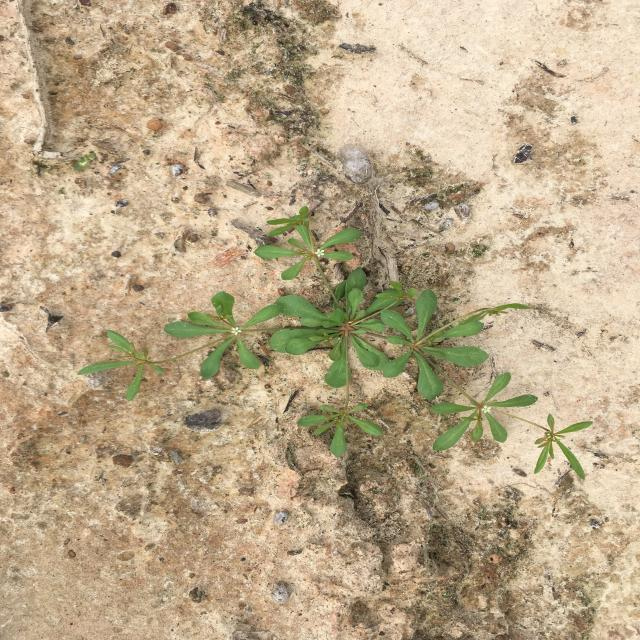Carpetweed: (77, 206, 594, 480)
